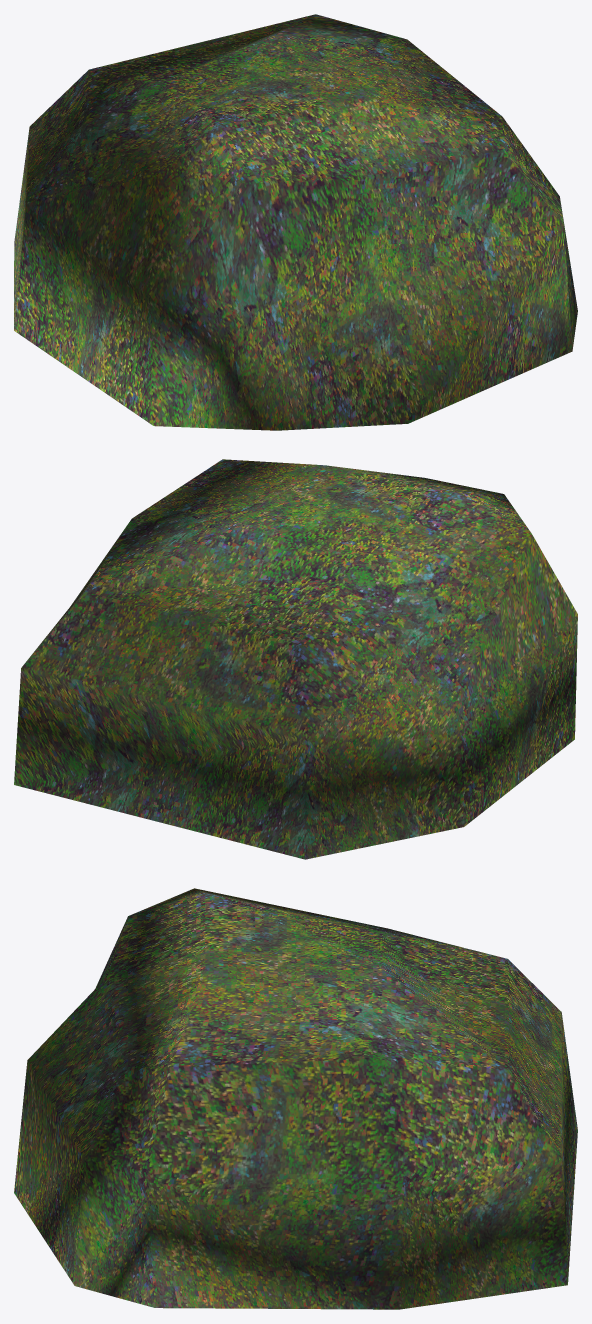
The model's file is rock_mossy_small_l2.fbx.
3 renders of one model, top to bottom at view 1: azimuth 30°, elevation 25°; view 2: azimuth 150°, elevation 25°; view 3: azimuth 270°, elevation 25°, orthographic. The views are drawn at different scales.
Visible parts, largest first — view 1: mesh_node; view 2: mesh_node; view 3: mesh_node.
Boxes of the visible parts, box(x1,y1,x2,y2) form: mesh_node: box(14, 14, 577, 430); mesh_node: box(14, 459, 577, 859); mesh_node: box(14, 888, 577, 1309).
Bounding box in the file's own units: 1.73 × 0.9615 × 1.9.
